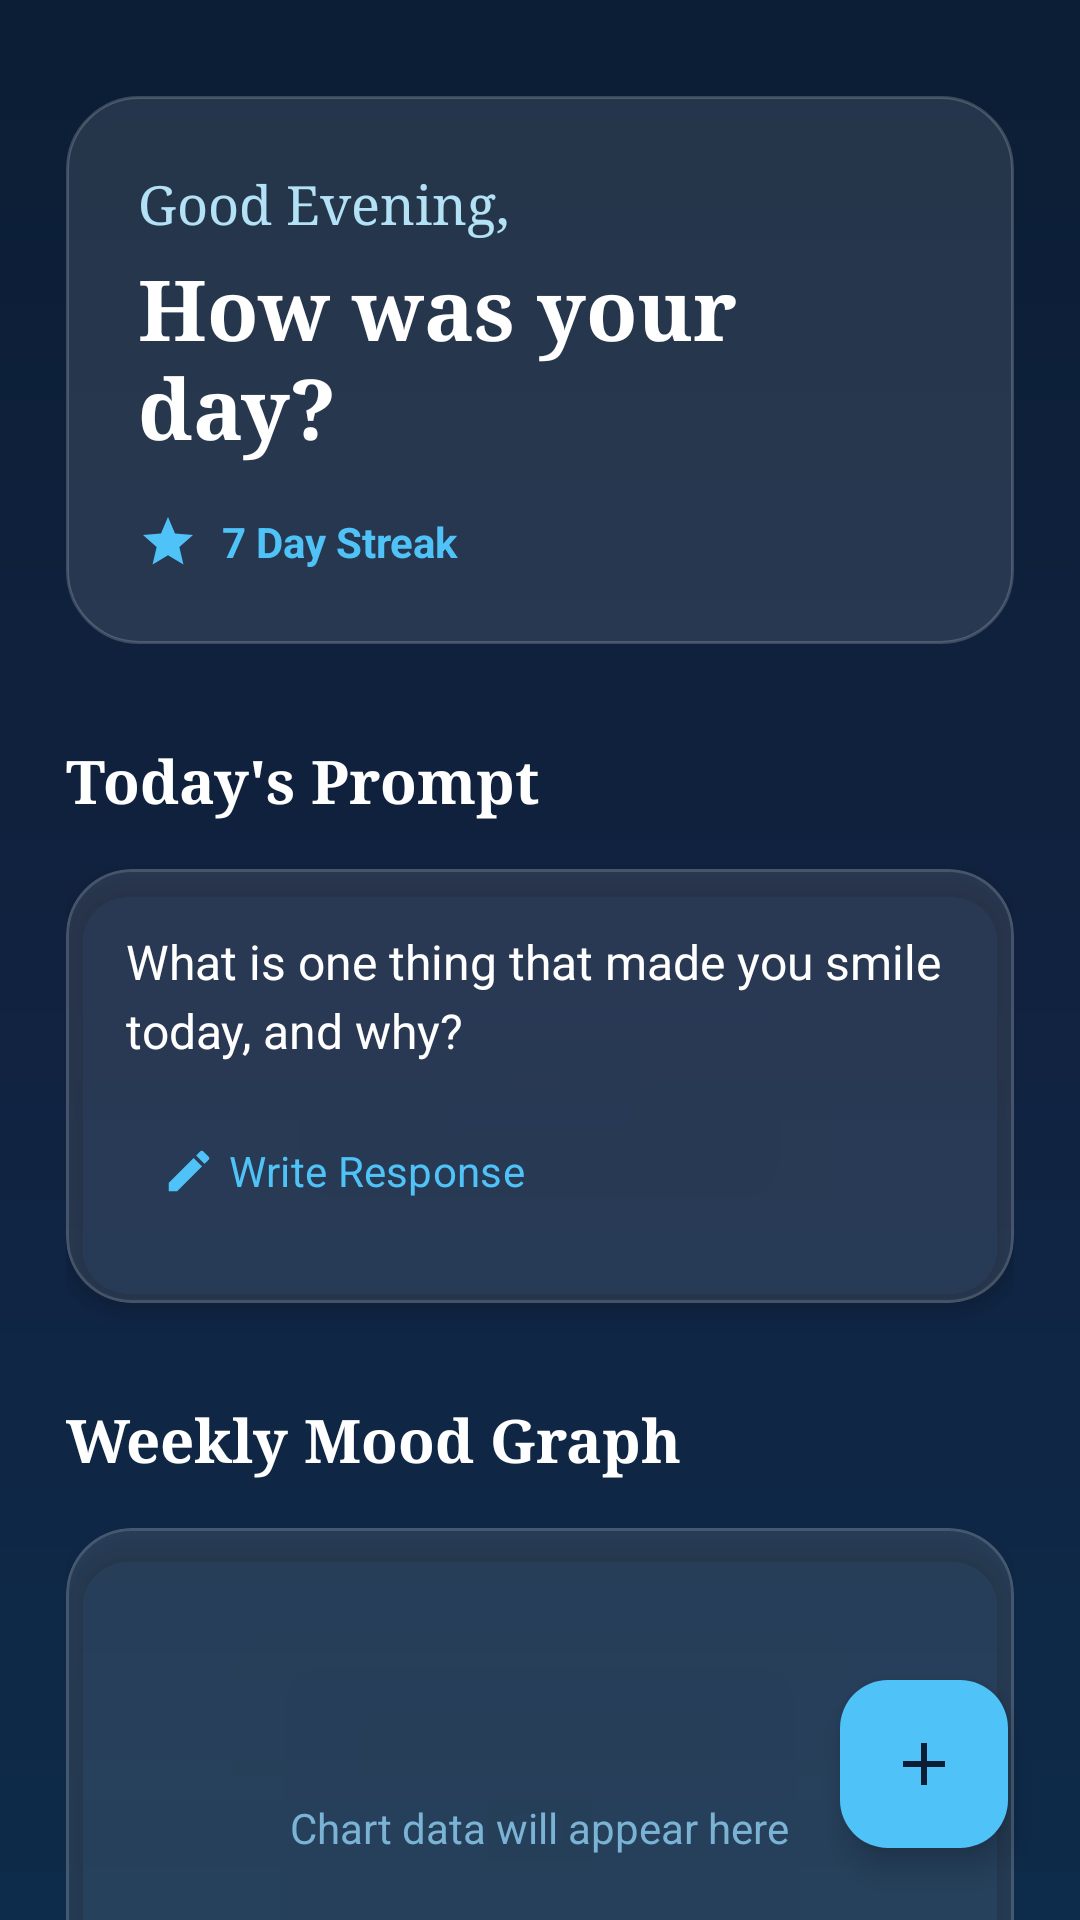

Icon click points for this 1080 × 1920 phone screenshot, format (x=x, y=y):
add: (x=924, y=1764)
star: (x=168, y=540)
